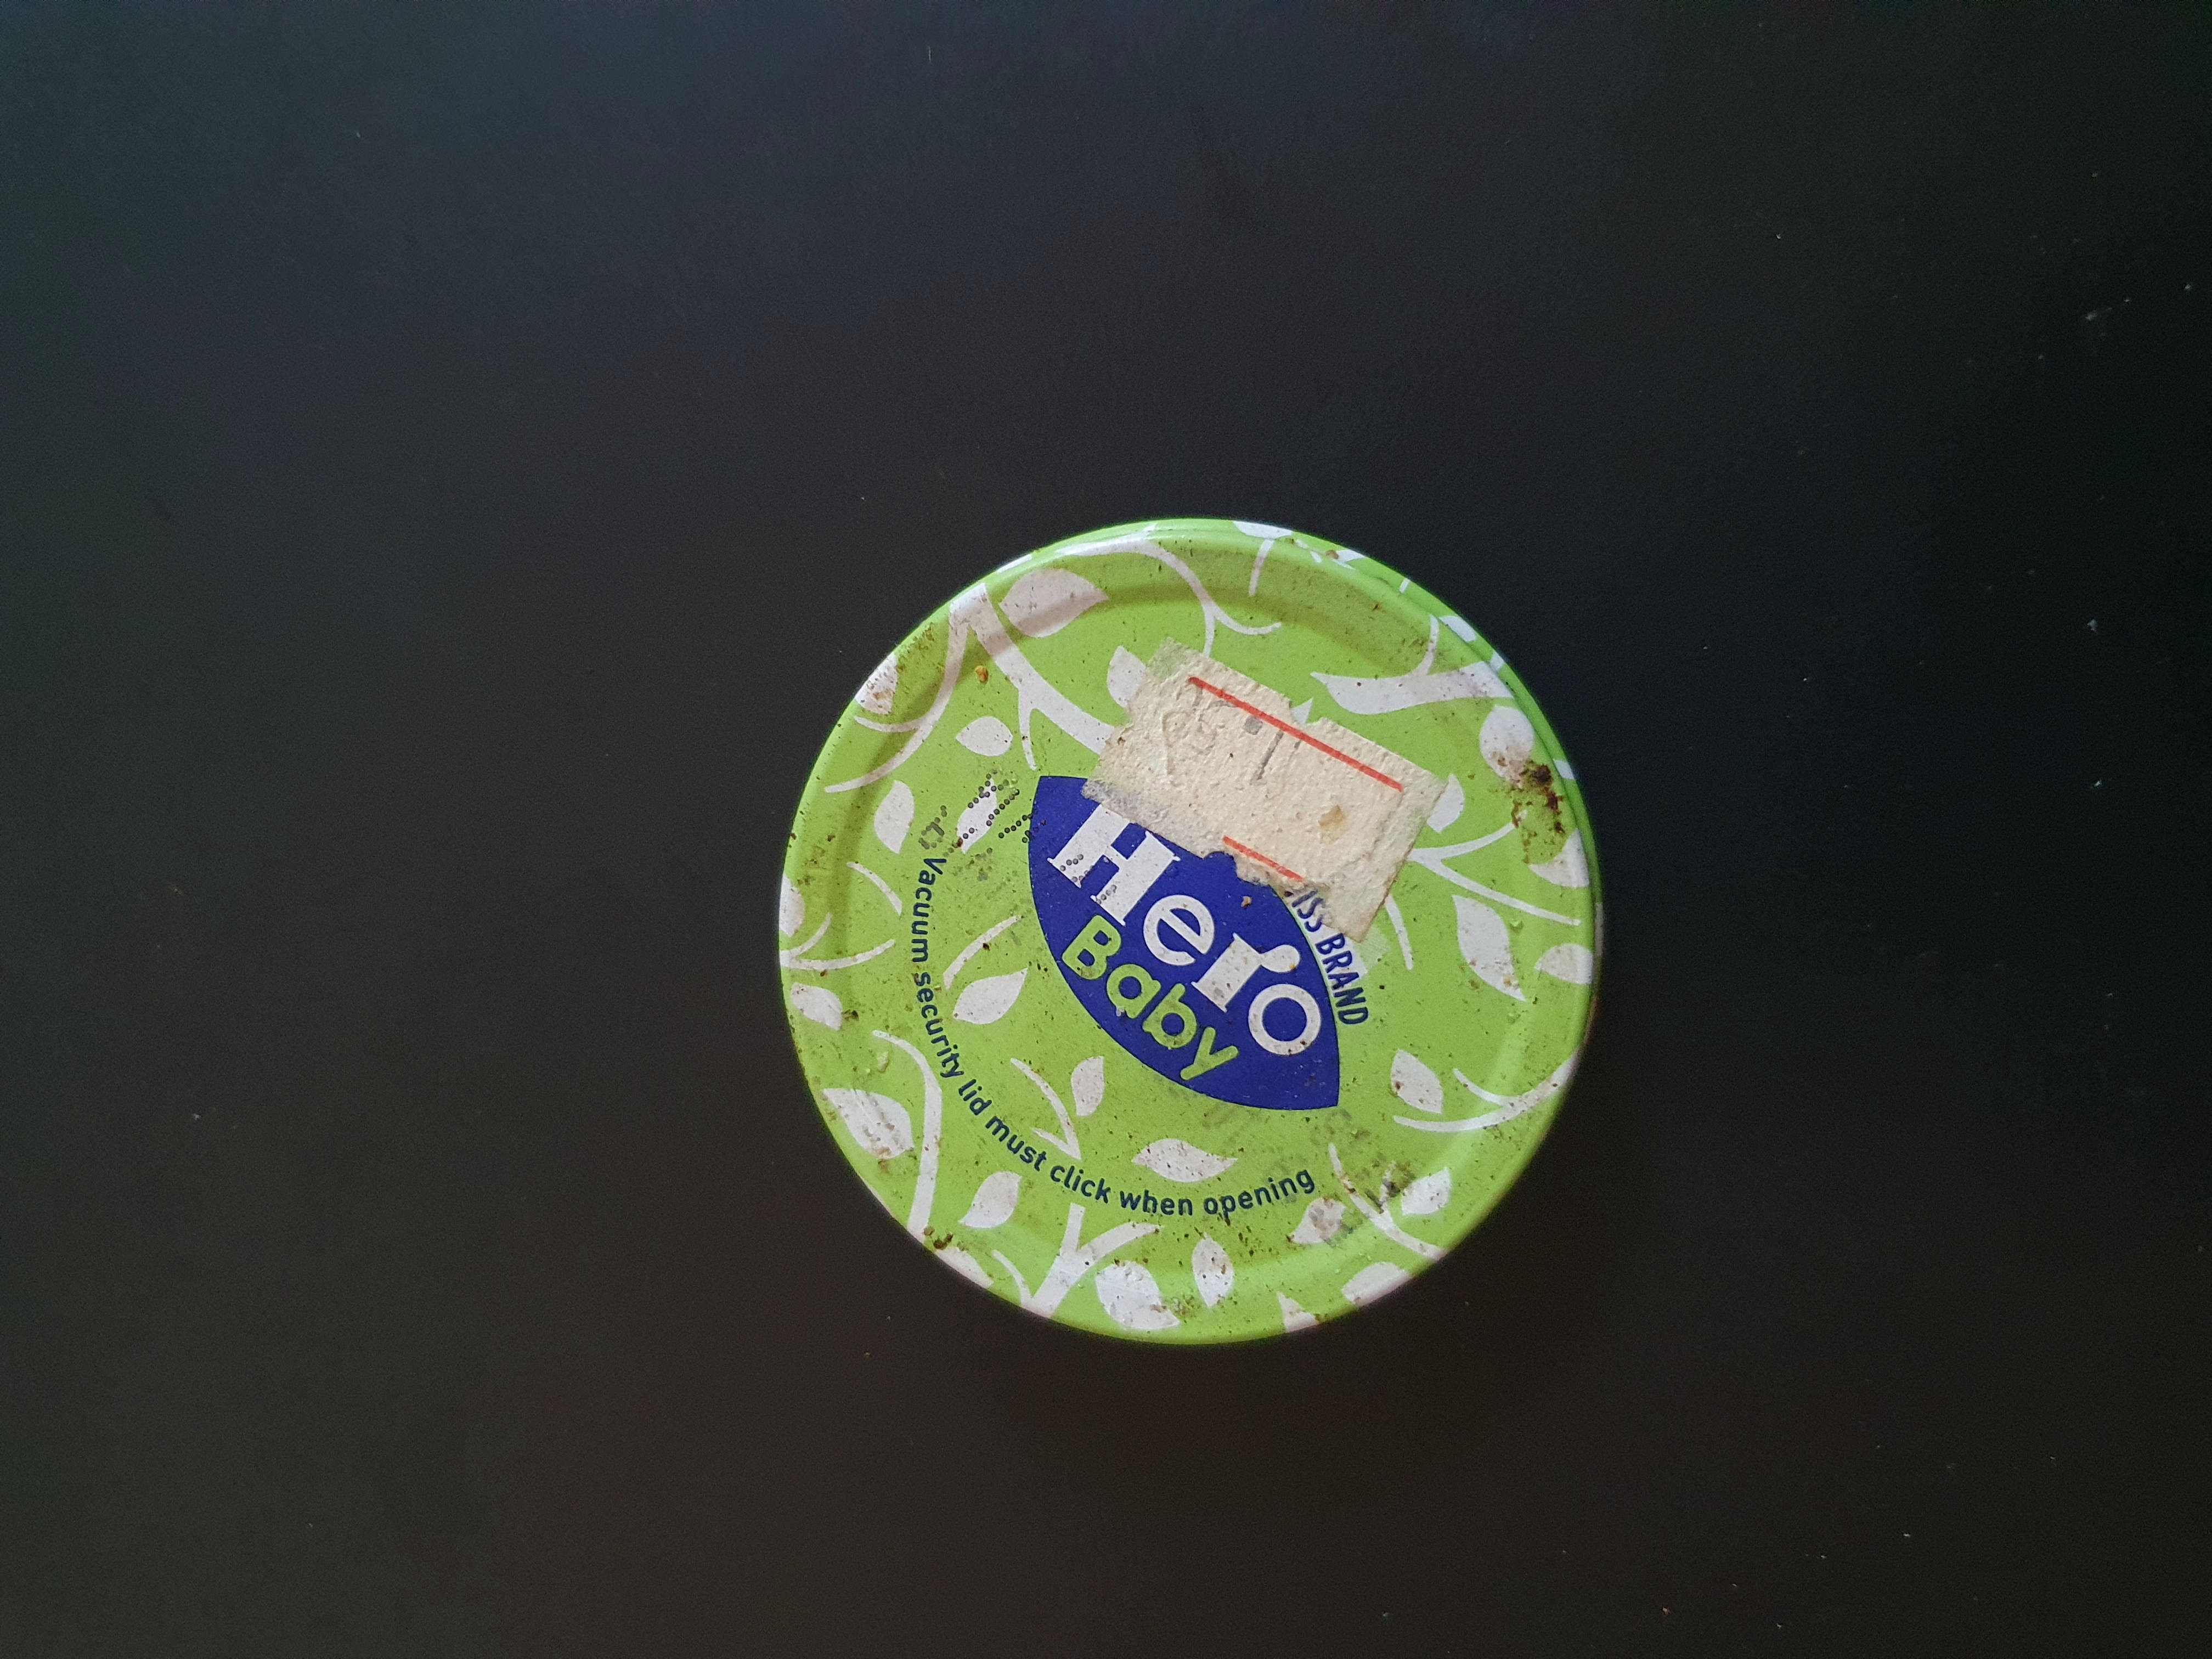metal: (693, 455, 1646, 1419)
